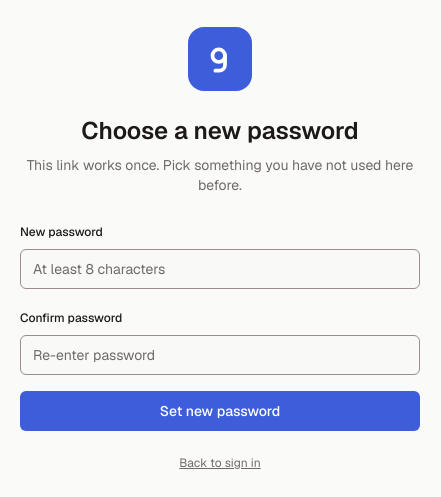
Test: the fields say what is wrong before the button is pressed › shows the mismatch under Confirm, not above the button
Type "a-good-password" into the password field labelled "New password". click: [220, 268]
box: [20, 248, 420, 288]
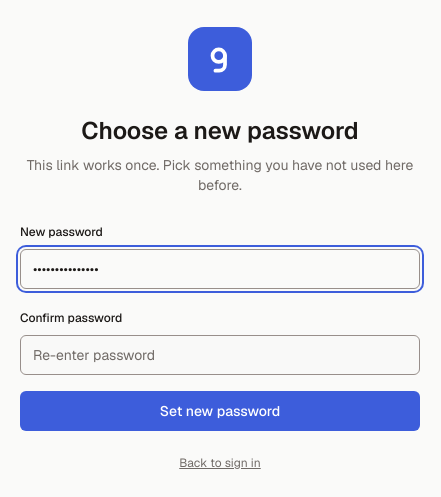
Type "a-good-passwerd" into the password field labelled "Confirm password". click: [220, 354]
box: [20, 334, 420, 374]
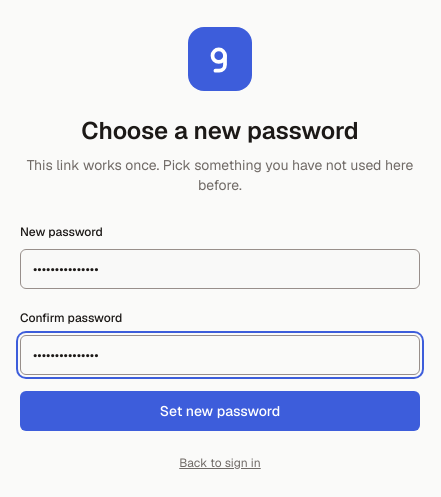
Press Tab
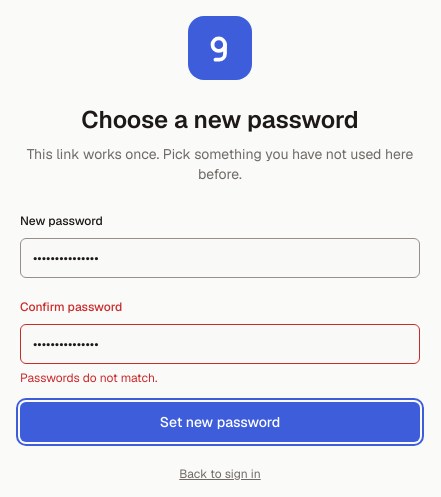
Check: the message reads "Passwords do not match.", box [20, 370, 157, 386]
